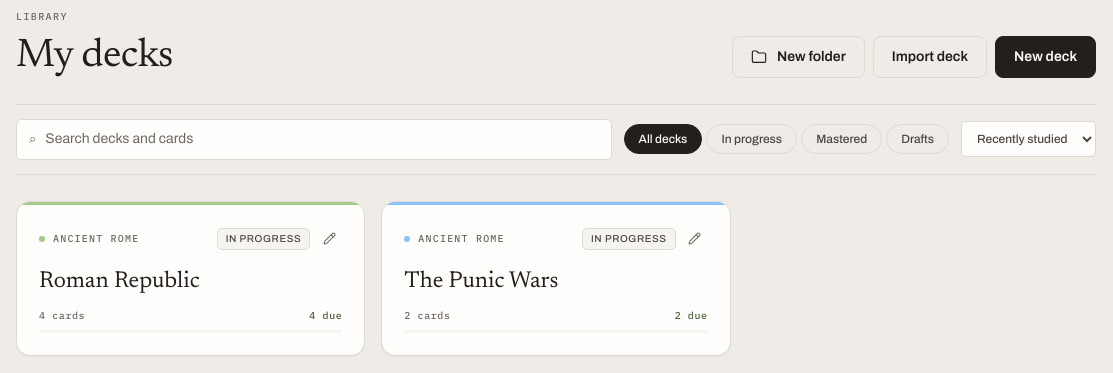
Test: finding a deck › narrows to what was typed
In the field labelled "Search decks and cards": (322, 140) [45, 130, 599, 150], type "punic"
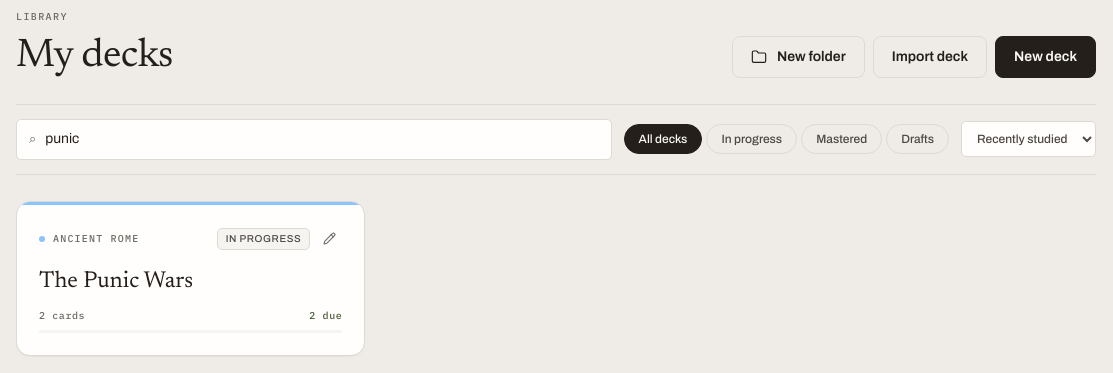
expect the heading "The Punic Wars" is shown: met, box [39, 270, 193, 292]
expect the link "Roman Republic" is gone: met
